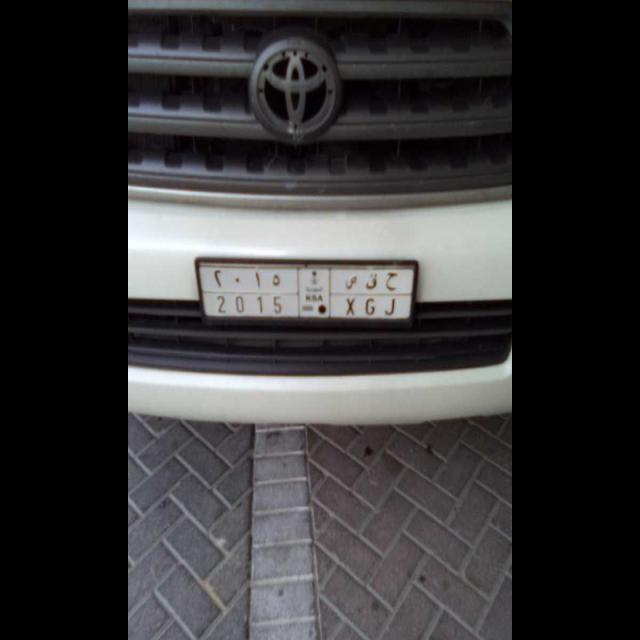license_plate: (206, 293, 411, 325)
